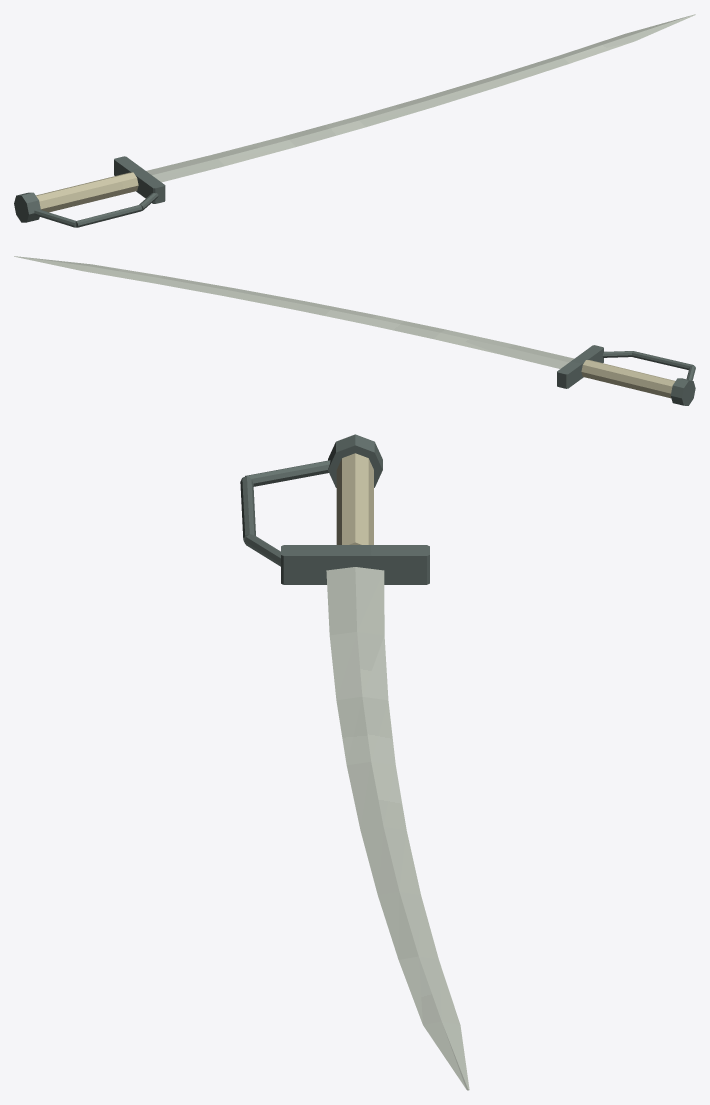
Rendered from weapon-sabre.glb.
3 renders of one model, top to bottom at view 1: azimuth 30°, elevation 25°; view 2: azimuth 150°, elevation 25°; view 3: azimuth 270°, elevation 25°, orthographic. The views are drawn at different scales.
Parts seen in each view (by area): view 1: weapon-sabre/faceted-distinct-blade, weapon-sabre/eight-sided-handle, weapon-sabre/transverse-crossguard, weapon-sabre/handle-end-pommel, weapon-sabre/open-knuckle-bow-2; view 2: weapon-sabre/faceted-distinct-blade, weapon-sabre/eight-sided-handle, weapon-sabre/transverse-crossguard, weapon-sabre/handle-end-pommel, weapon-sabre/open-knuckle-bow-2; view 3: weapon-sabre/faceted-distinct-blade, weapon-sabre/transverse-crossguard, weapon-sabre/eight-sided-handle, weapon-sabre/handle-end-pommel, weapon-sabre/open-knuckle-bow-3.
Boxes of the visible parts, bbox=[...] form: weapon-sabre/faceted-distinct-blade: bbox=[146, 14, 695, 182]; weapon-sabre/eight-sided-handle: bbox=[36, 172, 138, 212]; weapon-sabre/transverse-crossguard: bbox=[114, 156, 165, 203]; weapon-sabre/handle-end-pommel: bbox=[14, 192, 40, 222]; weapon-sabre/open-knuckle-bow-2: bbox=[76, 205, 142, 227]; weapon-sabre/faceted-distinct-blade: bbox=[14, 256, 573, 368]; weapon-sabre/eight-sided-handle: bbox=[581, 360, 675, 398]; weapon-sabre/transverse-crossguard: bbox=[557, 345, 603, 388]; weapon-sabre/handle-end-pommel: bbox=[670, 378, 695, 405]; weapon-sabre/open-knuckle-bow-2: bbox=[632, 351, 693, 369]; weapon-sabre/faceted-distinct-blade: bbox=[326, 567, 469, 1090]; weapon-sabre/transverse-crossguard: bbox=[281, 545, 429, 584]; weapon-sabre/eight-sided-handle: bbox=[336, 453, 373, 544]; weapon-sabre/handle-end-pommel: bbox=[328, 434, 382, 487]; weapon-sabre/open-knuckle-bow-3: bbox=[245, 460, 330, 486].
Size of the model in its own units: 1.03 by 0.038 by 0.1585.
Materials: 3 (3 with a texture image).
